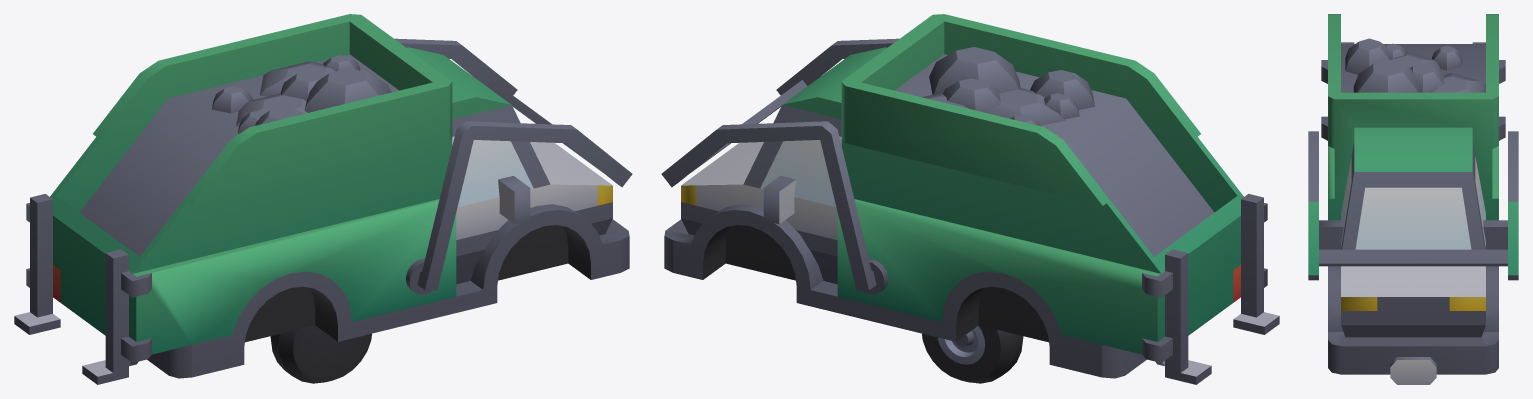
File: garbage.glb
3 views of the same model, side by side, from view 1: azimuth 30°, elevation 25°; view 2: azimuth 150°, elevation 25°; view 3: azimuth 270°, elevation 25° (orthographic). The views are drawn at different scales.
Parts seen in each view (by area): view 1: body, wheel; view 2: body, wheel; view 3: body.
Boxes of the visible parts, x1=… form: body: x1=14, y1=14, x2=632, y2=384; wheel: x1=270, y1=325, x2=371, y2=383; body: x1=661, y1=14, x2=1279, y2=384; wheel: x1=922, y1=325, x2=1023, y2=383; body: x1=1308, y1=14, x2=1518, y2=384.
Bounding box in the file's own units: 6 × 3.3 × 2.34.
